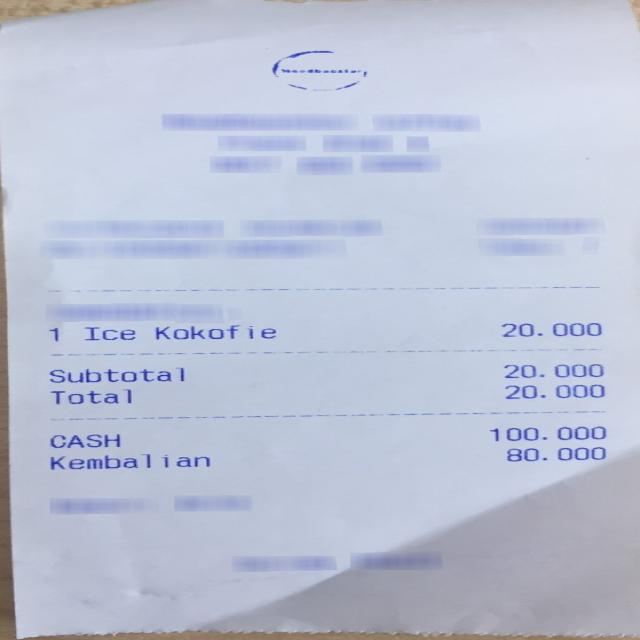text: (49, 452, 207, 469), (46, 367, 184, 382), (489, 425, 607, 441), (154, 324, 274, 339), (498, 321, 605, 336), (502, 362, 604, 377), (502, 383, 604, 398), (504, 446, 603, 460), (49, 388, 132, 404), (49, 434, 119, 447), (82, 326, 134, 339), (47, 325, 59, 341)
